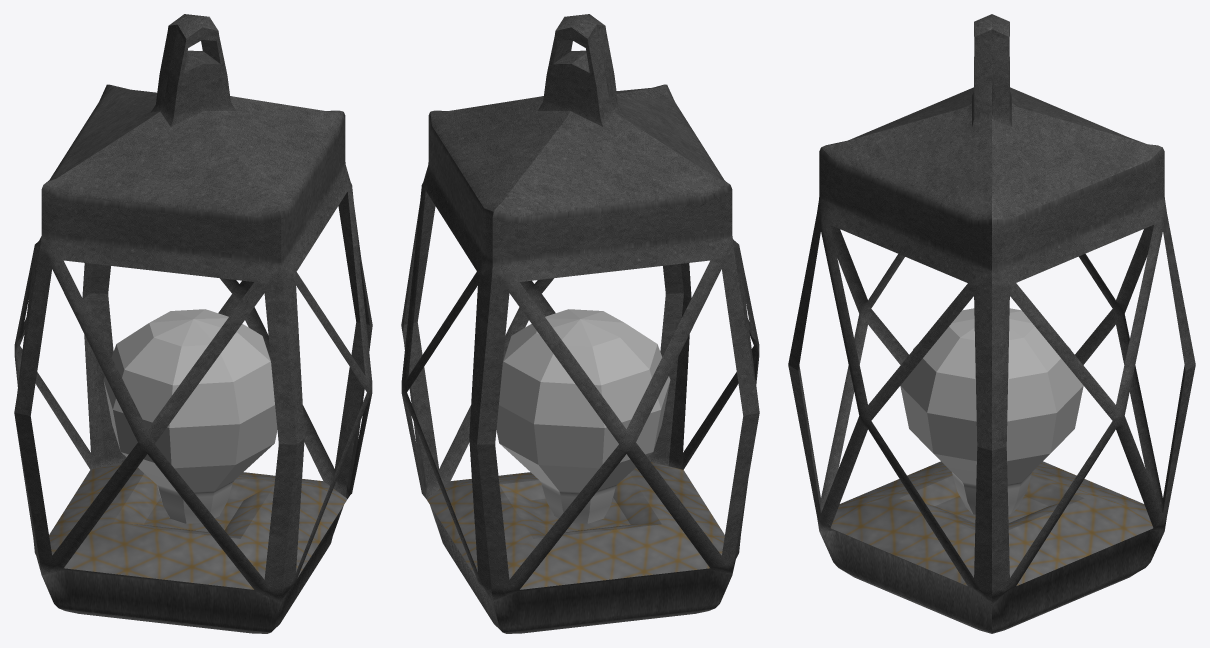
The model's file is Lamp_02_PixelArt.fbx.
3 renders of one model, left to right at view 1: azimuth 30°, elevation 25°; view 2: azimuth 150°, elevation 25°; view 3: azimuth 270°, elevation 25°, orthographic.
Visible parts, largest first — view 1: Lamp_02, Bulb_1; view 2: Lamp_02, Bulb_1; view 3: Lamp_02, Bulb_1.
Boxes of the visible parts, x1,y1,x2,y2 form: Lamp_02: (14,14,372,633); Bulb_1: (103,309,277,523); Lamp_02: (401,14,759,633); Bulb_1: (496,309,670,523); Lamp_02: (788,14,1195,633); Bulb_1: (900,308,1083,514).
Size of the model in its own units: 0.1502 by 0.2251 by 0.1502.
